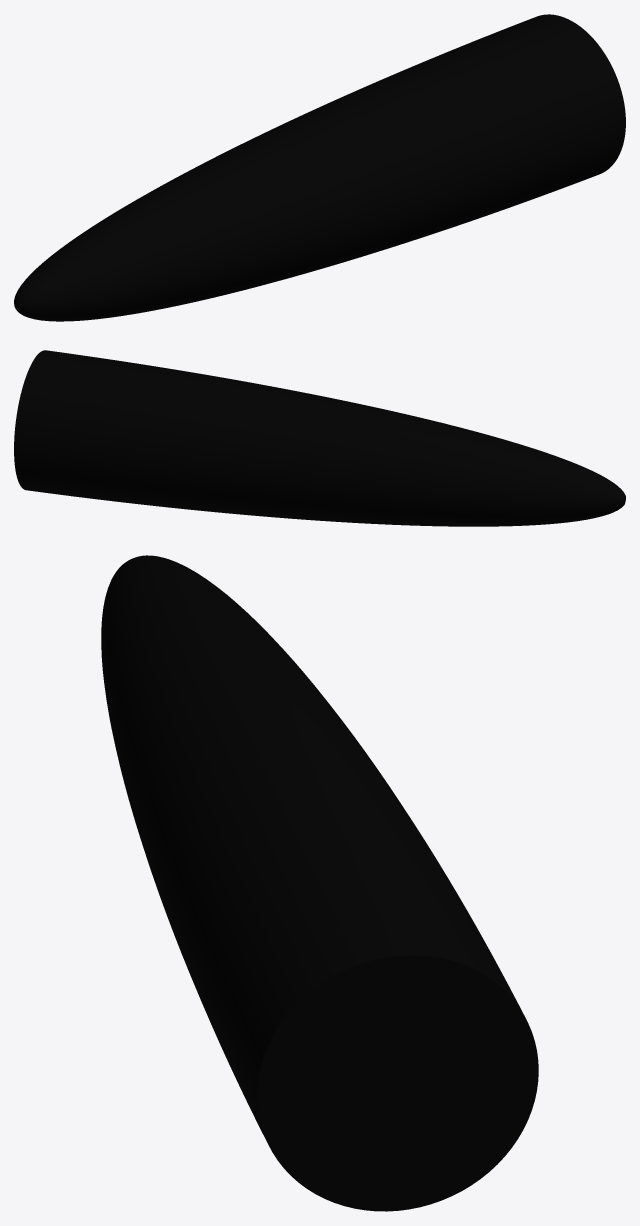
The model's file is shrapnel.fbx.
3 renders of one model, top to bottom at view 1: azimuth 30°, elevation 25°; view 2: azimuth 150°, elevation 25°; view 3: azimuth 270°, elevation 25°, orthographic. The views are drawn at different scales.
Visible parts, largest first — view 1: root; view 2: root; view 3: root.
Boxes of the visible parts, box(x1,y1,x2,y2) form: root: box(14, 14, 625, 321); root: box(14, 350, 625, 526); root: box(101, 555, 538, 1211).
Bounding box in the file's own units: 0.1154 × 0.0262 × 0.0407.
1 material, 1 textured.
